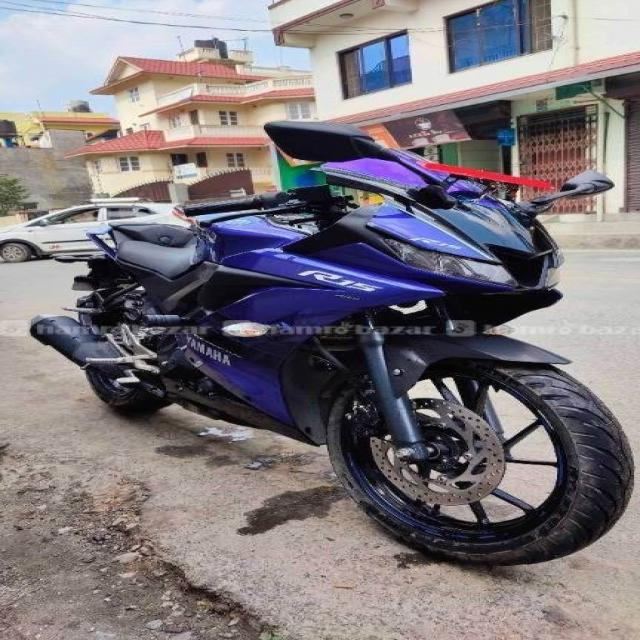License-plate: (421, 153, 557, 197)
